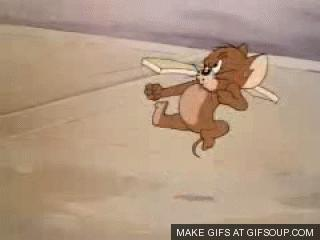jerry: (143, 41, 269, 159)
